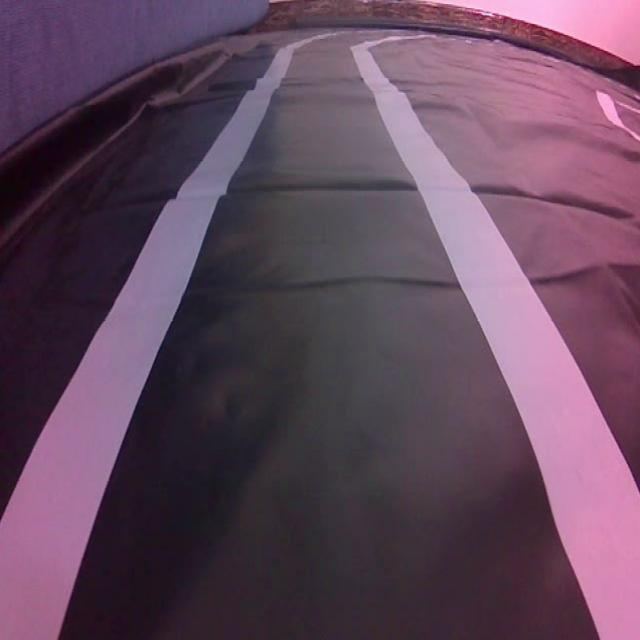LineaCarril: (0, 34, 331, 640), (351, 41, 640, 640)
